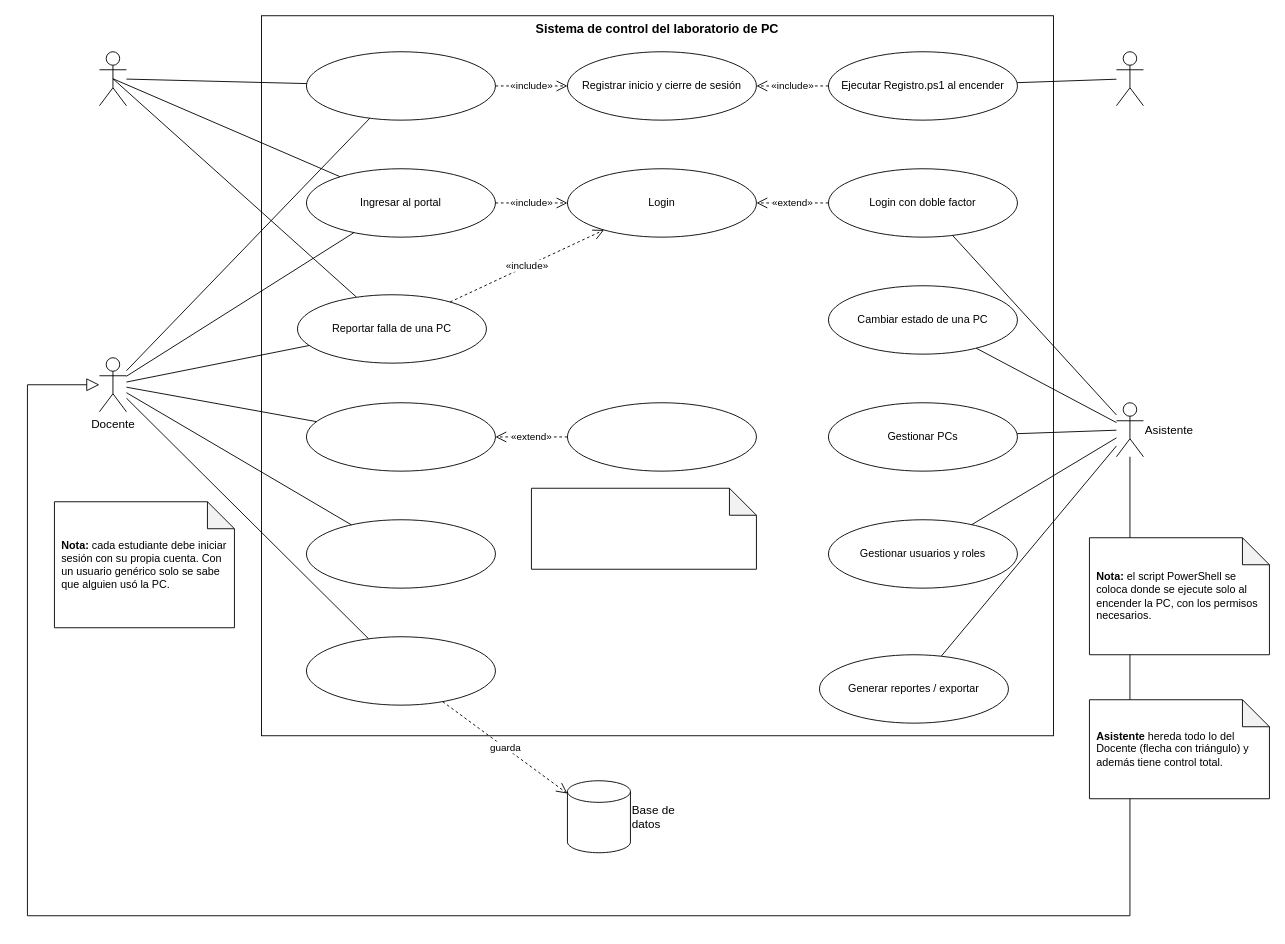
Image size: 1285x944. Some labels were removed from this diagram. Here are the shapes that lost their labels. From the top down, the box of each, then its label:
(99, 51, 126, 106): Estudiante
(306, 51, 495, 120): Iniciar sesión en la PC
(1116, 51, 1143, 106): Script PowerShell (sistema)
(306, 402, 495, 471): Consultar estado del laboratorio
(567, 402, 756, 471): Consultar historial de uso de una PC
(531, 487, 756, 569): Extend: el historial se consulta cuando hay una falla
(306, 519, 495, 588): Ver quién usa cada PC ahora
(306, 636, 495, 705): Registrar comentarios
